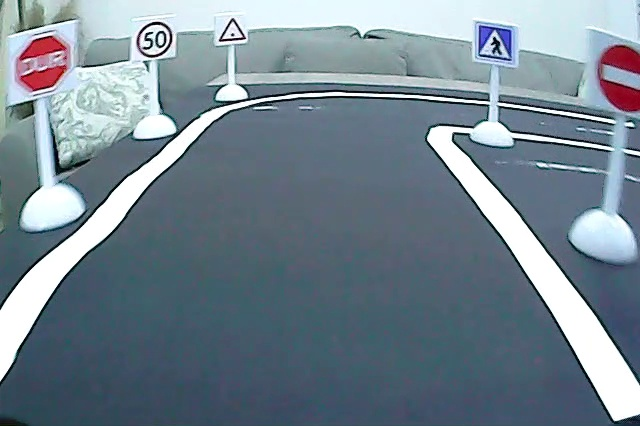do not enter: (596, 38, 640, 117)
green light: (216, 14, 249, 44)
pedestrian crossing: (475, 20, 516, 65)
speed limit 50: (134, 19, 176, 59)
stop sign: (13, 29, 74, 96)
